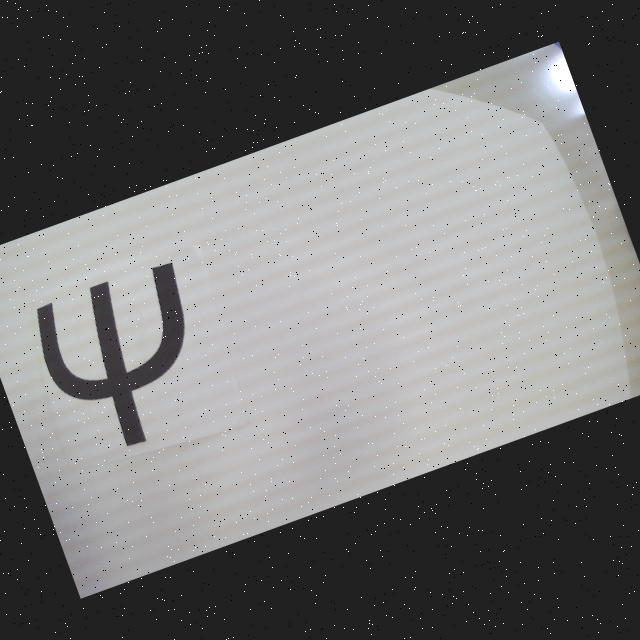PSI: (26, 257, 228, 466)
